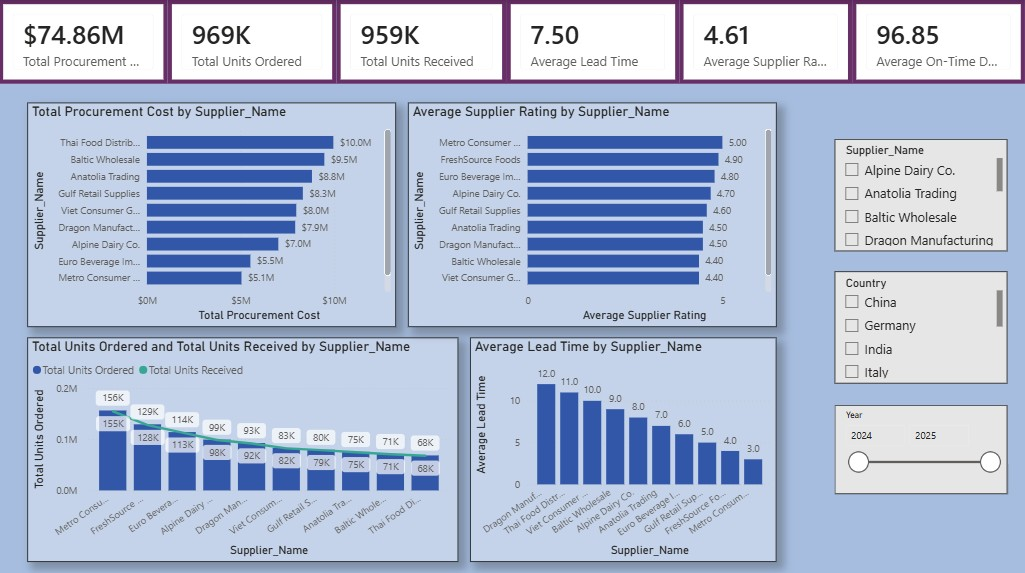

The page's visual inventory and layout, read from the dashboard file:
{"tool":"powerbi","page":{"name":"Procurement Analytics","canvas":[1280,720],"ordinal":2},"visuals":[{"type":"cardVisual","fields":{"Data":["Measures (2).Total Procurement Cost"]},"box":[0,0,210.6,104.5],"z":0},{"type":"cardVisual","fields":{"Data":["Measures (2).Total Units Ordered"]},"box":[210.6,0,210.6,104.5],"z":1000},{"type":"cardVisual","fields":{"Data":["Measures (2).Total Units Received"]},"box":[421.2,0,212.3,104.5],"z":2000},{"type":"cardVisual","fields":{"Data":["Measures (2).Average Lead Time"]},"box":[633.5,0,215.7,104.5],"z":3000},{"type":"cardVisual","fields":{"Data":["Measures (2).Average Supplier Rating"]},"box":[849.1,0,215.7,104.5],"z":4000},{"type":"cardVisual","fields":{"Data":["Measures (2).Average On-Time Delivery"]},"box":[1064.8,0,215.7,104.5],"z":5000},{"type":"clusteredBarChart","fields":{"Category":["Suppliers.Supplier_Name"],"Y":["Measures (2).Total Procurement Cost"]},"box":[35.2,128,460,279.7],"z":6000},{"type":"lineClusteredColumnComboChart","fields":{"Category":["Suppliers.Supplier_Name"],"Y":["Measures (2).Total Units Ordered"],"Y2":["Measures (2).Total Units Received"]},"box":[35.4,421.2,537.5,279.7],"z":7000},{"type":"barChart","fields":{"Category":["Suppliers.Supplier_Name"],"Y":["Measures (2).Average Supplier Rating"]},"box":[510.5,128,460,279.7],"z":8000},{"type":"columnChart","fields":{"Category":["Suppliers.Supplier_Name"],"Y":["Measures (2).Average Lead Time"]},"box":[588,421.2,382.4,279.7],"z":9000},{"type":"slicer","fields":{"Values":["Suppliers.Supplier_Name"]},"box":[1042.9,173.5,215.7,139.8],"z":10000},{"type":"slicer","fields":{"Values":["Suppliers.Country"]},"box":[1042.9,338.6,215.7,139.8],"z":11000},{"type":"slicer","fields":{"Values":["Dates.Year"]},"box":[1042.9,505.4,215.7,111.2],"z":12000}]}

Visuals, with their boxes in screenshot pixels (x1, y1, x2, y2), scaled from the page's 1280x720 canvas onto the 1025x573 screenshot:
cardVisual - Measures (2).Total Procurement Cost: region(0, 0, 169, 83)
cardVisual - Measures (2).Total Units Ordered: region(169, 0, 337, 83)
cardVisual - Measures (2).Total Units Received: region(337, 0, 507, 83)
cardVisual - Measures (2).Average Lead Time: region(507, 0, 680, 83)
cardVisual - Measures (2).Average Supplier Rating: region(680, 0, 853, 83)
cardVisual - Measures (2).Average On-Time Delivery: region(853, 0, 1024, 83)
clusteredBarChart - Suppliers.Supplier_Name x Measures (2).Total Procurement Cost: region(28, 102, 397, 324)
lineClusteredColumnComboChart - Suppliers.Supplier_Name x Measures (2).Total Units Ordered: region(28, 335, 459, 558)
barChart - Suppliers.Supplier_Name x Measures (2).Average Supplier Rating: region(409, 102, 777, 324)
columnChart - Suppliers.Supplier_Name x Measures (2).Average Lead Time: region(471, 335, 777, 558)
slicer - Suppliers.Supplier_Name: region(835, 138, 1008, 249)
slicer - Suppliers.Country: region(835, 269, 1008, 381)
slicer - Dates.Year: region(835, 402, 1008, 491)
